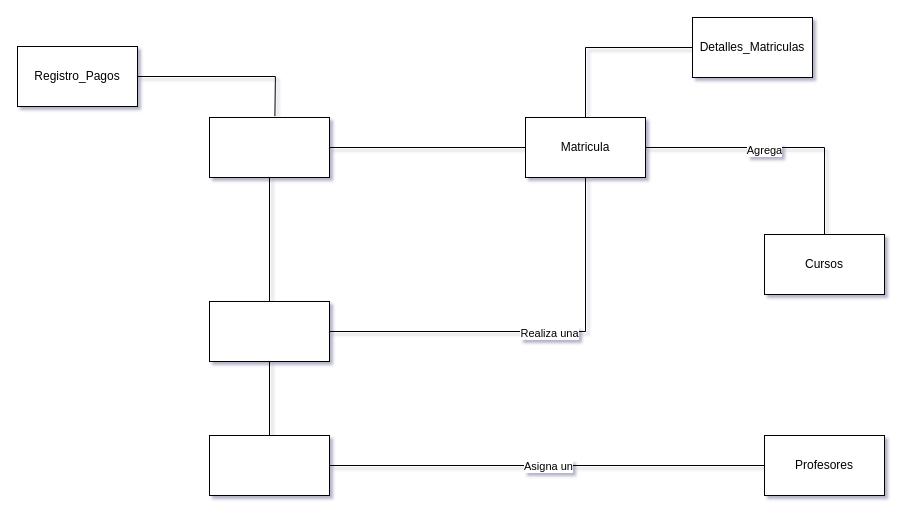
Some shapes in this 908 by 519 pixel diagram are drawn without their labels. The centre of each missing label's shape, as x and y in pixels:
"Clases_Sincrónicas" belongs at point (269, 465).
"Estudiantes" belongs at point (269, 331).
"Pagos" belongs at point (269, 147).
